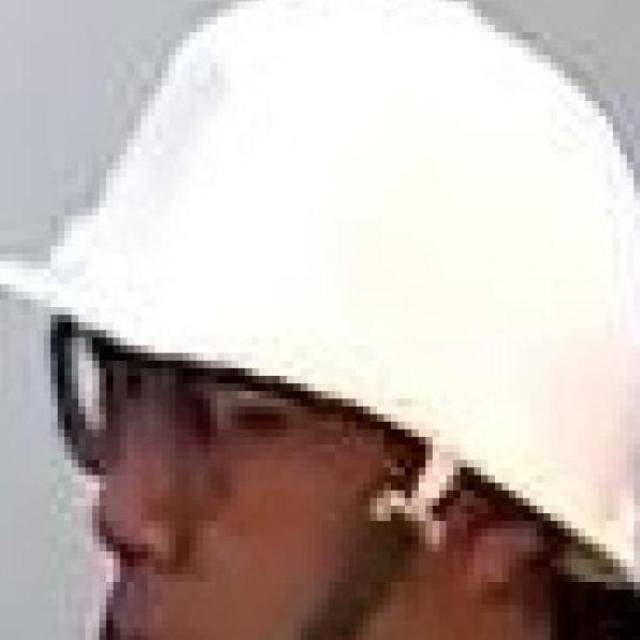white helmet: (9, 12, 640, 557)
